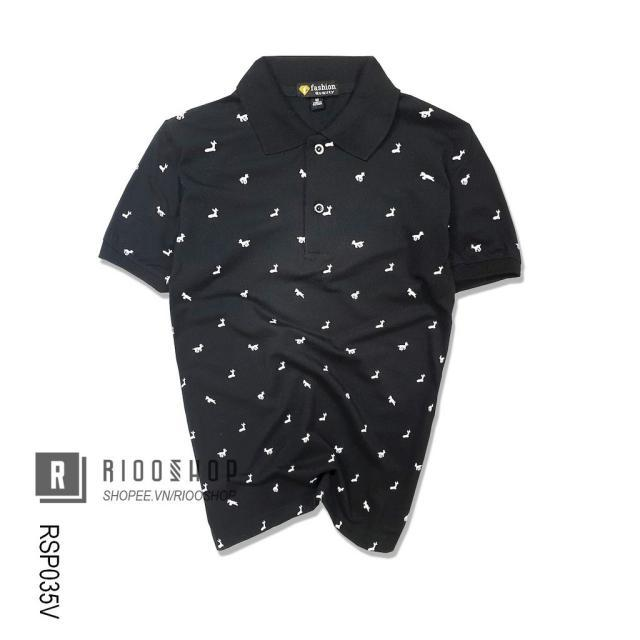Shirt: (97, 51, 530, 558)
